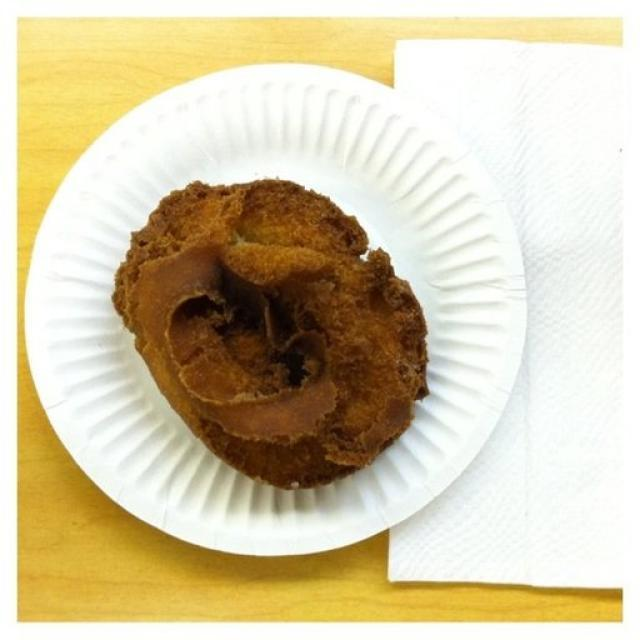Donuts: (95, 173, 470, 515)
